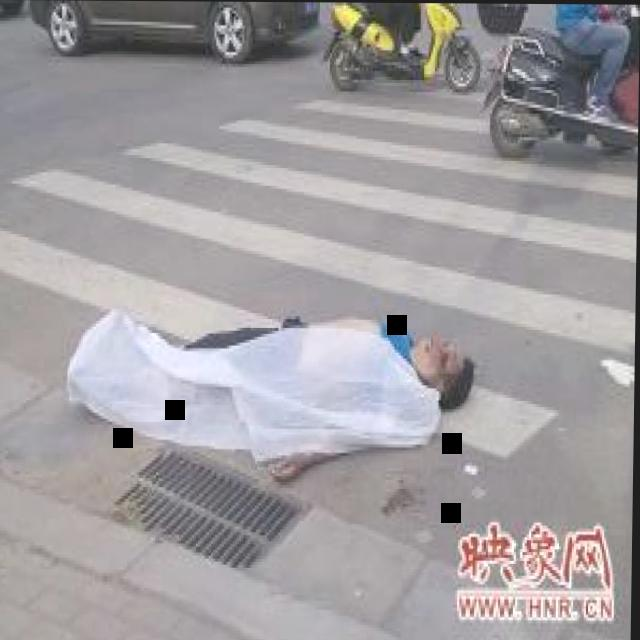Fall-Detected: (61, 258, 491, 486)
